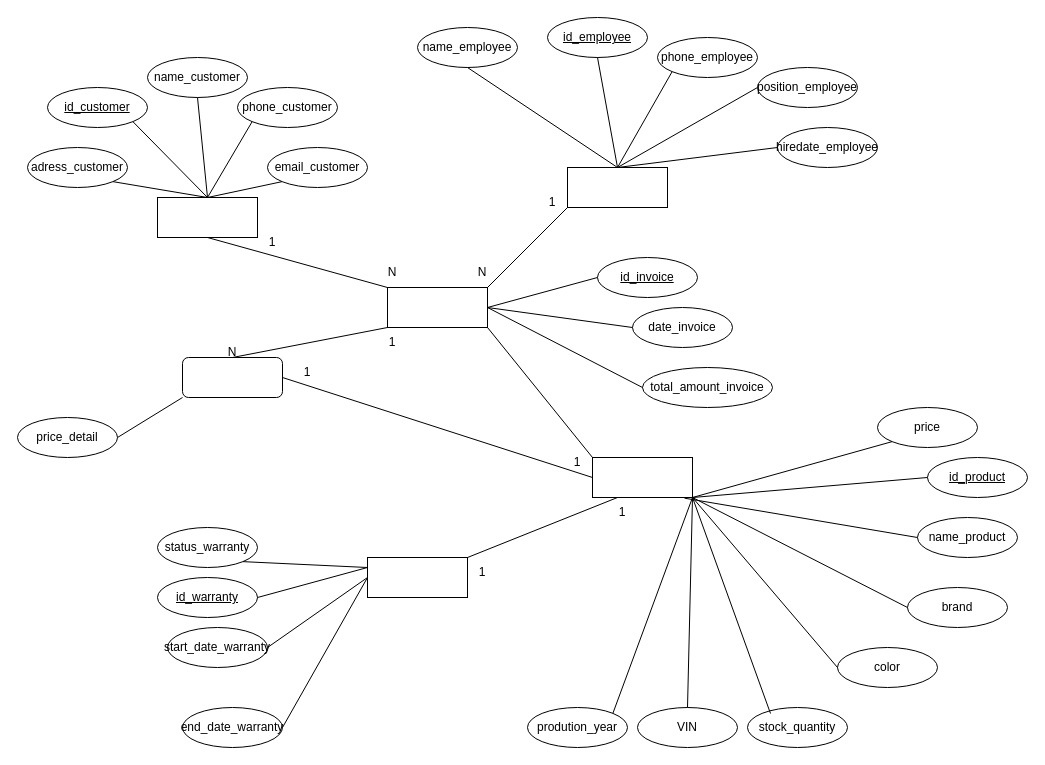
Some shapes in this 1045 by 765 pixel diagram are drawn without their labels. The centre of each missing label's shape, as x and y in pixels:
Customer: the point at 207,217
Employee: the point at 617,187
Invoice: the point at 437,307
Invoice_Detail: the point at 232,377
Product: the point at 642,477
Warranty: the point at 417,577
